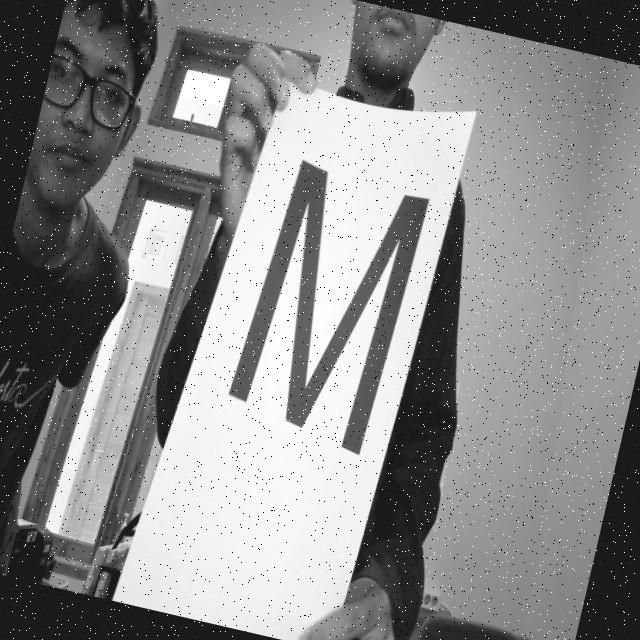m: (204, 132, 442, 485)
